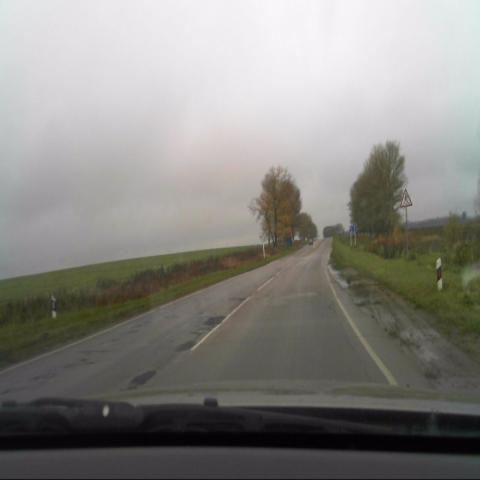1_22: (401, 187, 412, 208)
